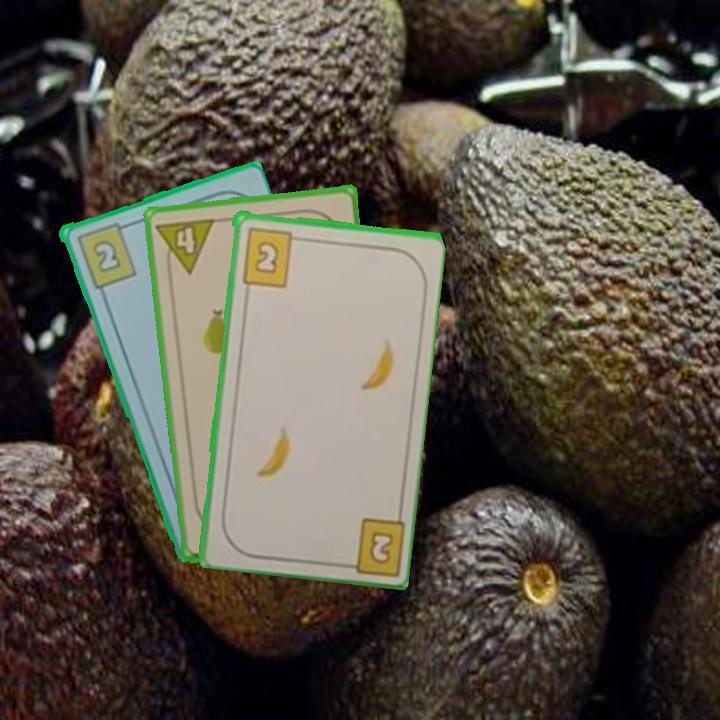2b: (72, 218, 139, 291), (335, 513, 405, 575), (238, 224, 304, 289)
4p: (153, 214, 218, 278)
